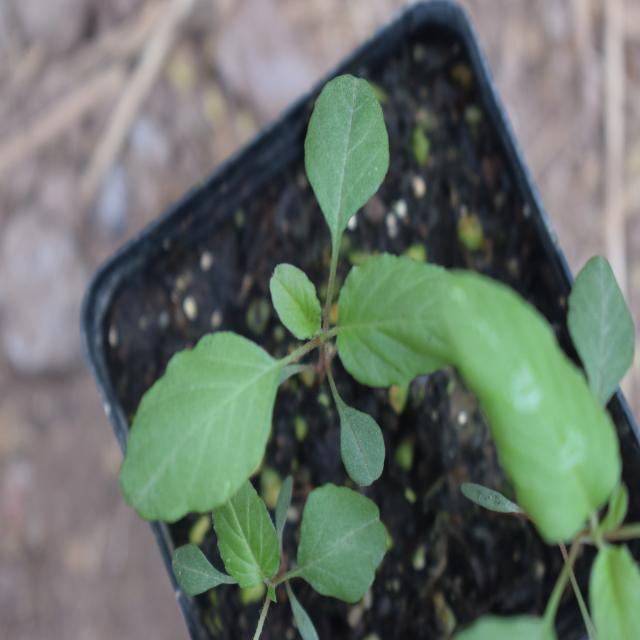pigweed: (89, 99, 482, 532)
